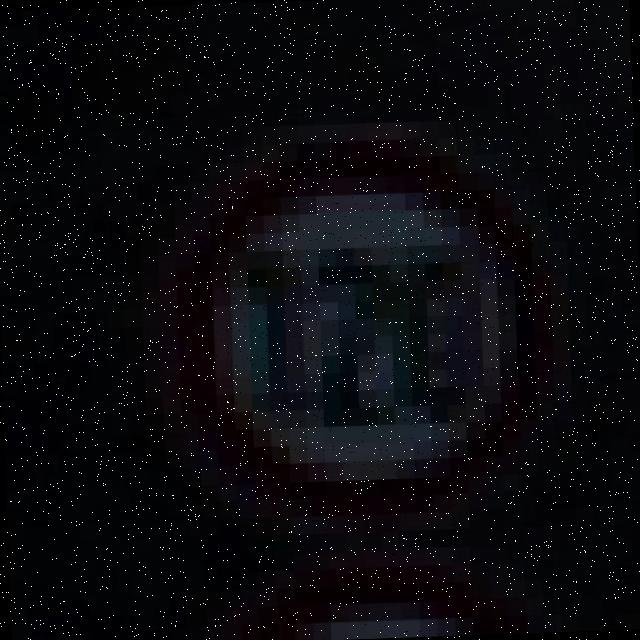Ograniczenie predkosci do 120: (176, 144, 552, 531)
